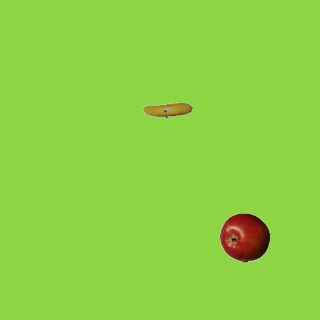Apple Braeburn: (219, 212, 269, 262)
Banana: (142, 85, 192, 135)
